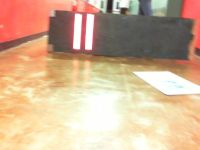switch: (85, 14, 95, 50), (73, 13, 82, 49)
